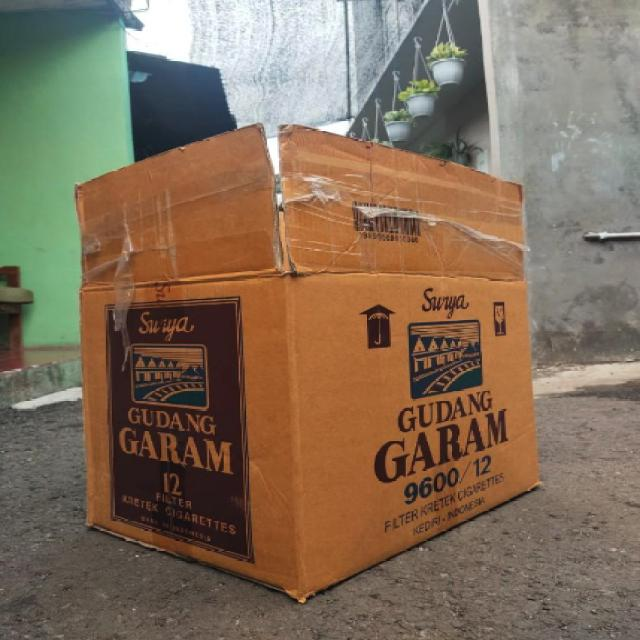Kardus: (73, 121, 543, 603), (424, 40, 468, 86)
